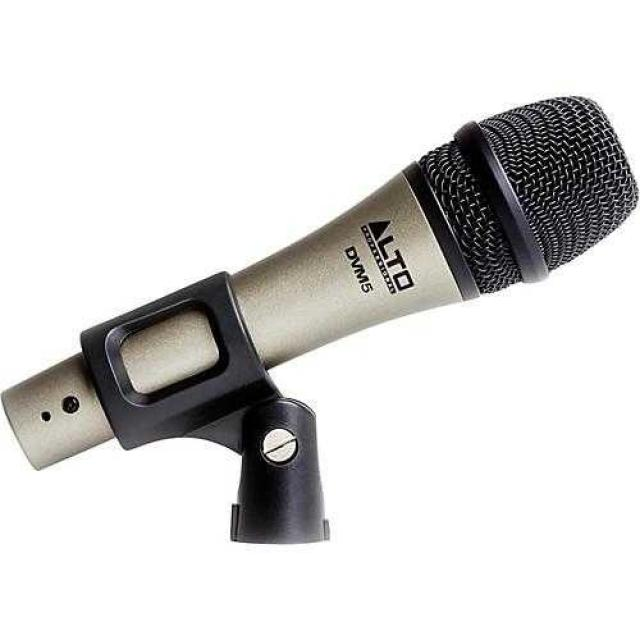microphone: (65, 86, 640, 470)
